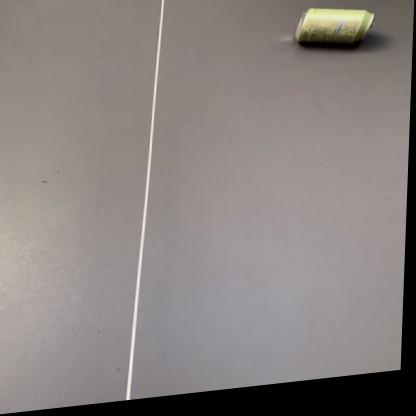trash: (296, 8, 373, 45)
